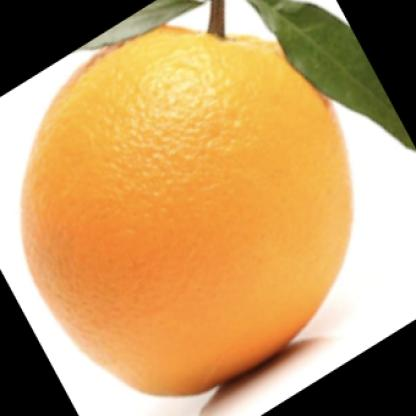fresh: (19, 20, 355, 400)
